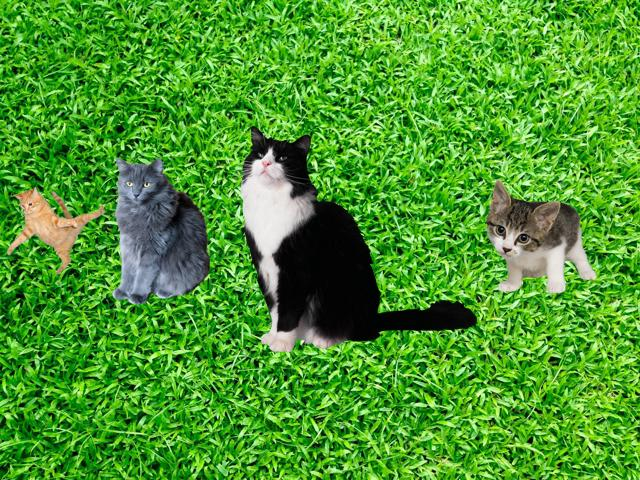cat: (223, 128, 476, 350), (112, 157, 211, 305), (488, 178, 598, 294), (8, 189, 103, 273)
